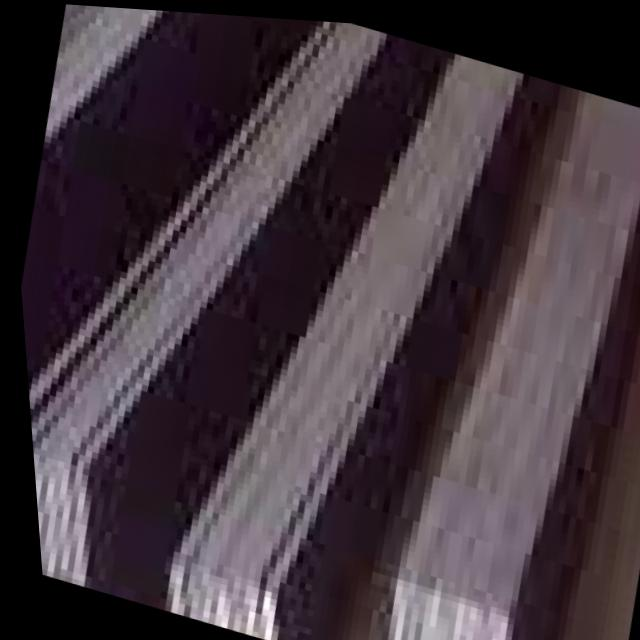metal-plates: (18, 7, 640, 640)
